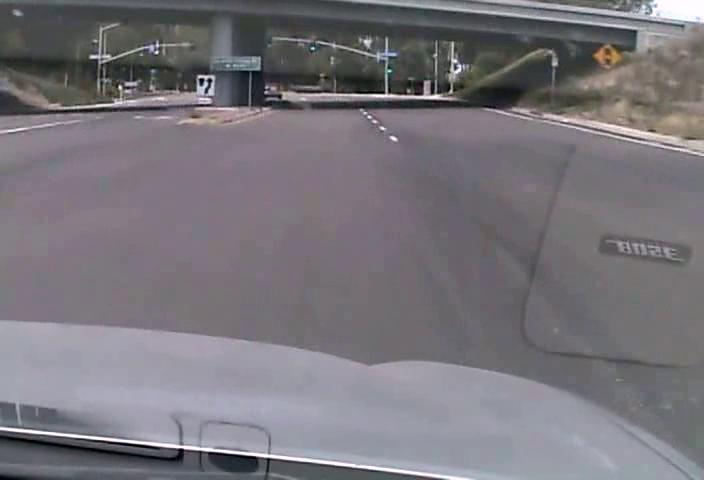signalAhead: (591, 41, 623, 70)
